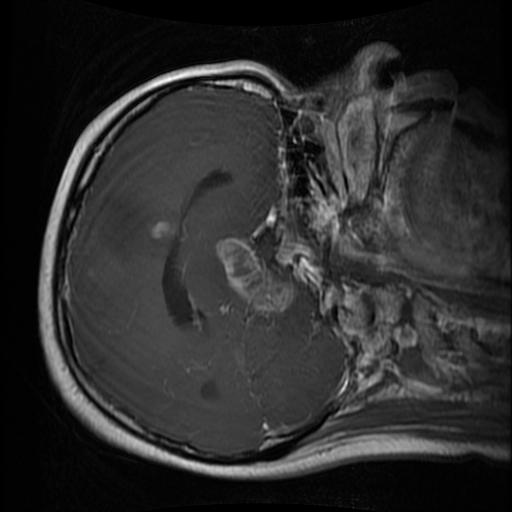glioma: (214, 237, 298, 317)
